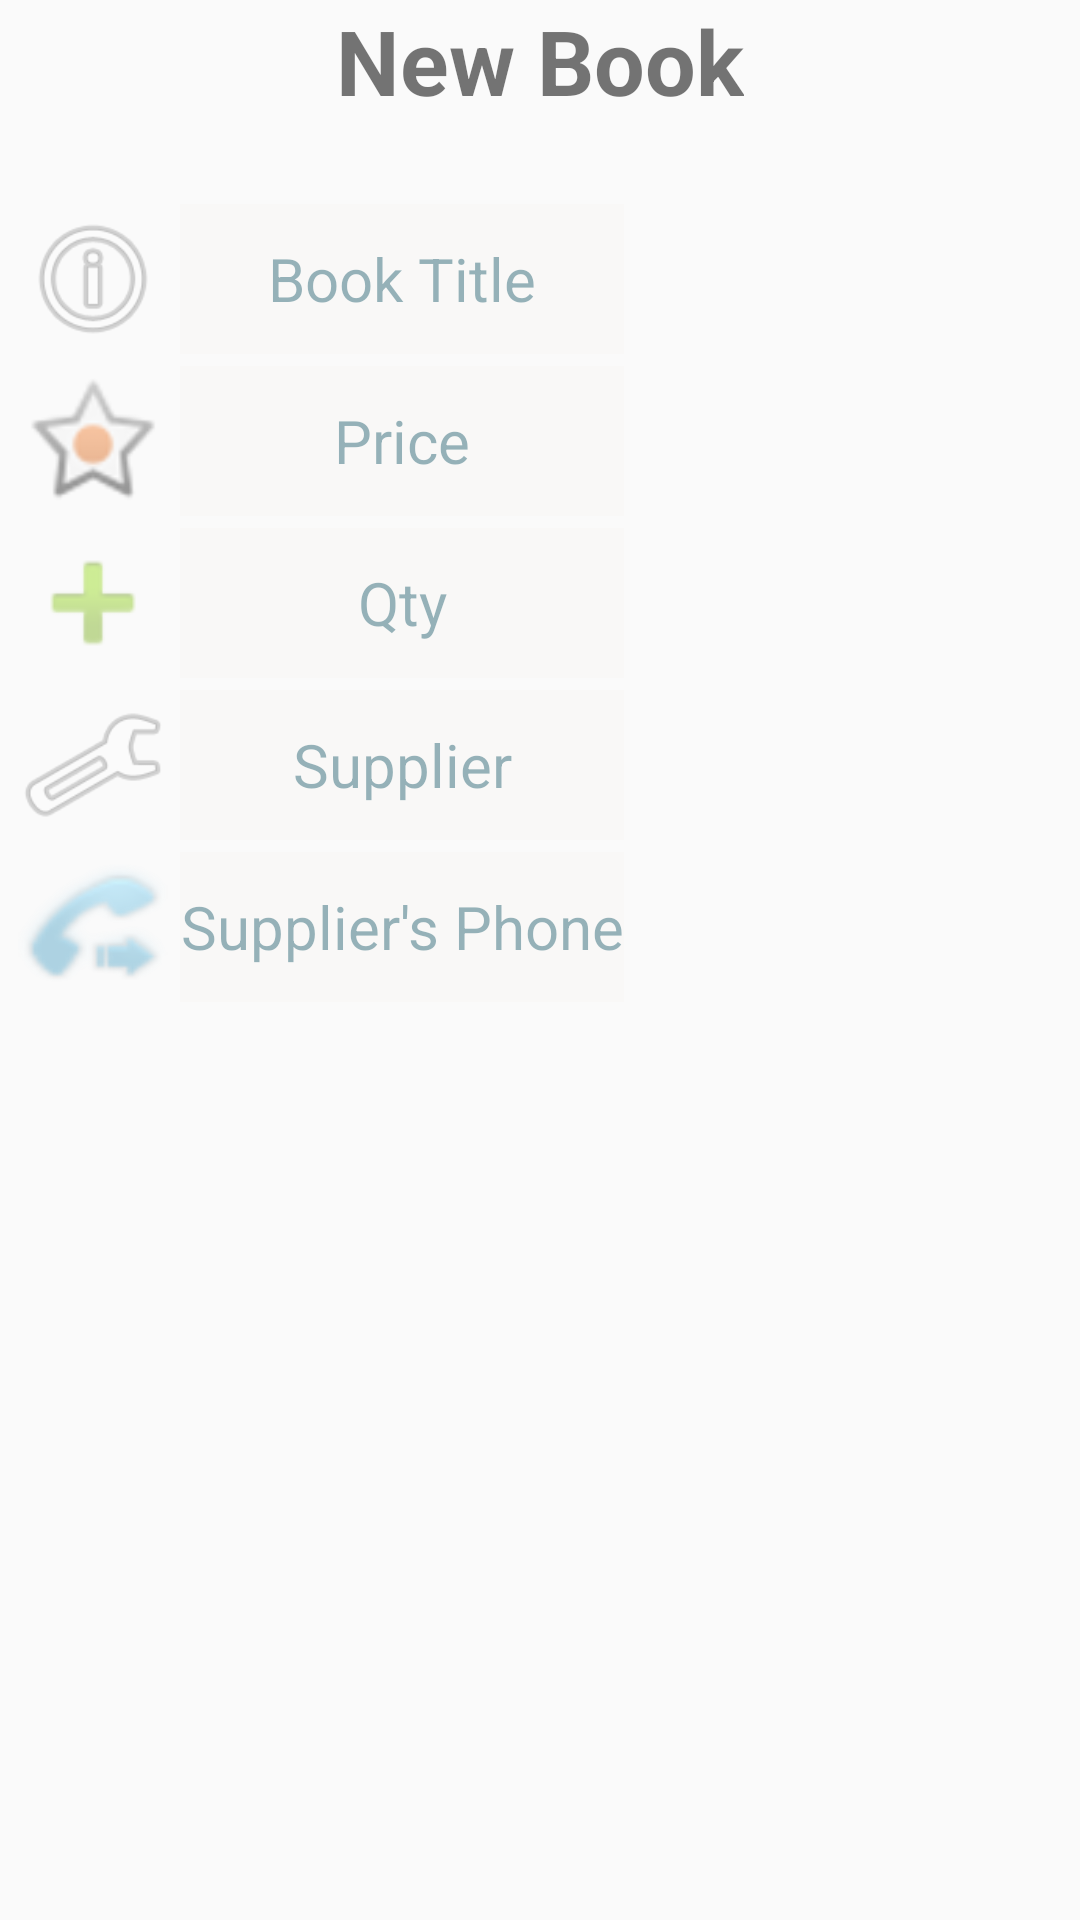

Screen size 1080x1920. Icon name, then its center in pixels as [x,y]:
add: [93,602]
info details: [93,279]
phone call forward: [92,926]
preferences: [93,765]
star on: [93,440]
